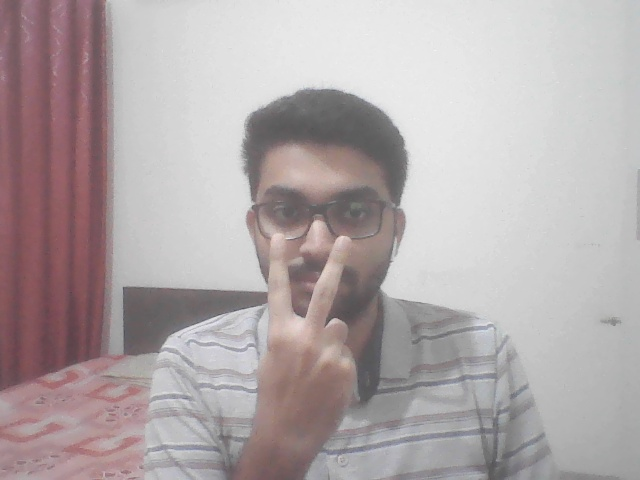see: (240, 199, 381, 458)
